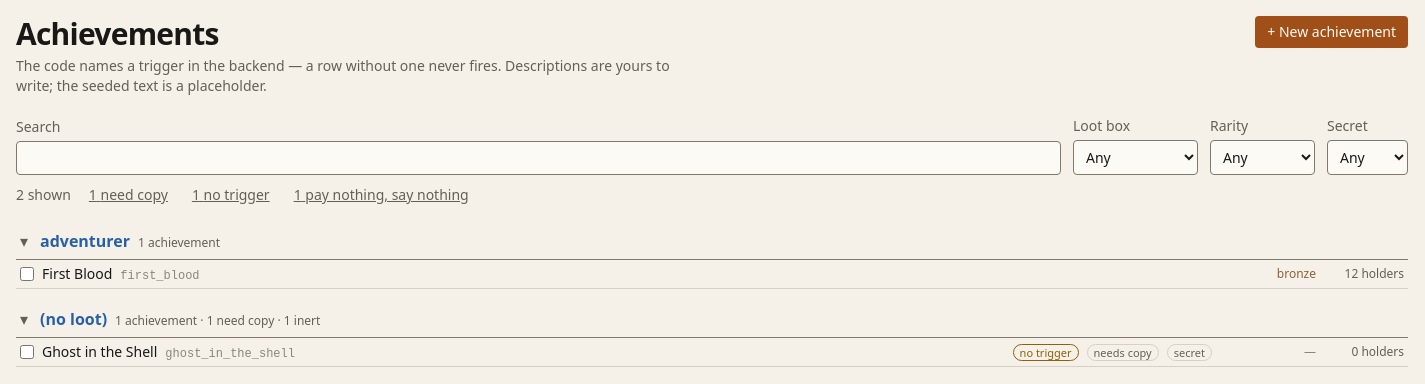
Test: AdminAchievementsPage › counts the ones that pay nothing and say nothing about it
The image size is (1425, 384).
Expected: the button "First Blood" is shown, [42,264,1212,284]
Click the button "1 pay nothing, say nothing": coordinates (381, 195) [288,183,475,207]
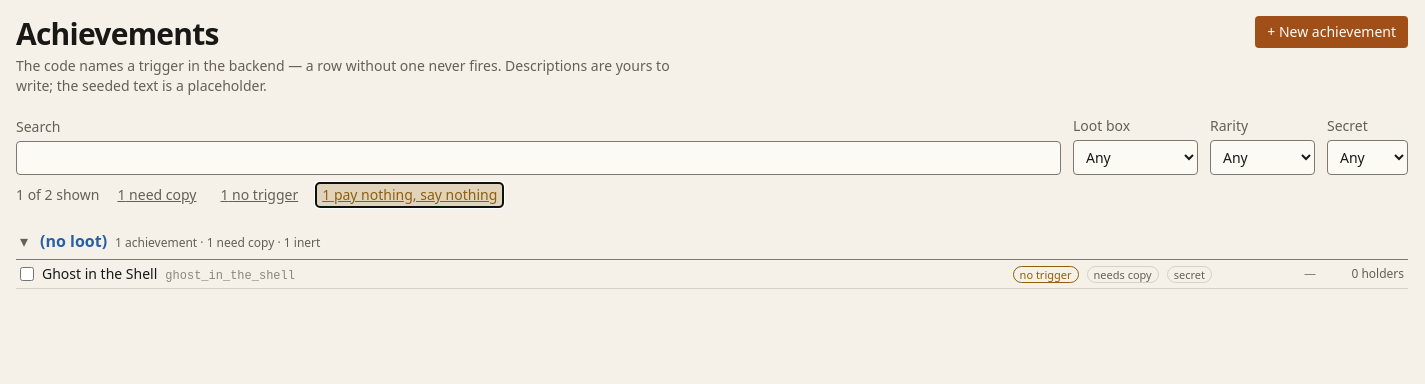
Expected: the button "Ghost in the Shell" is shown, [42,264,1005,284]
Result: the button "First Blood" is gone
